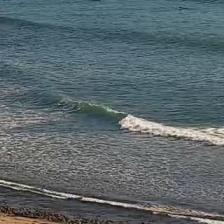surfer: (178, 6, 188, 9), (91, 0, 102, 2)
